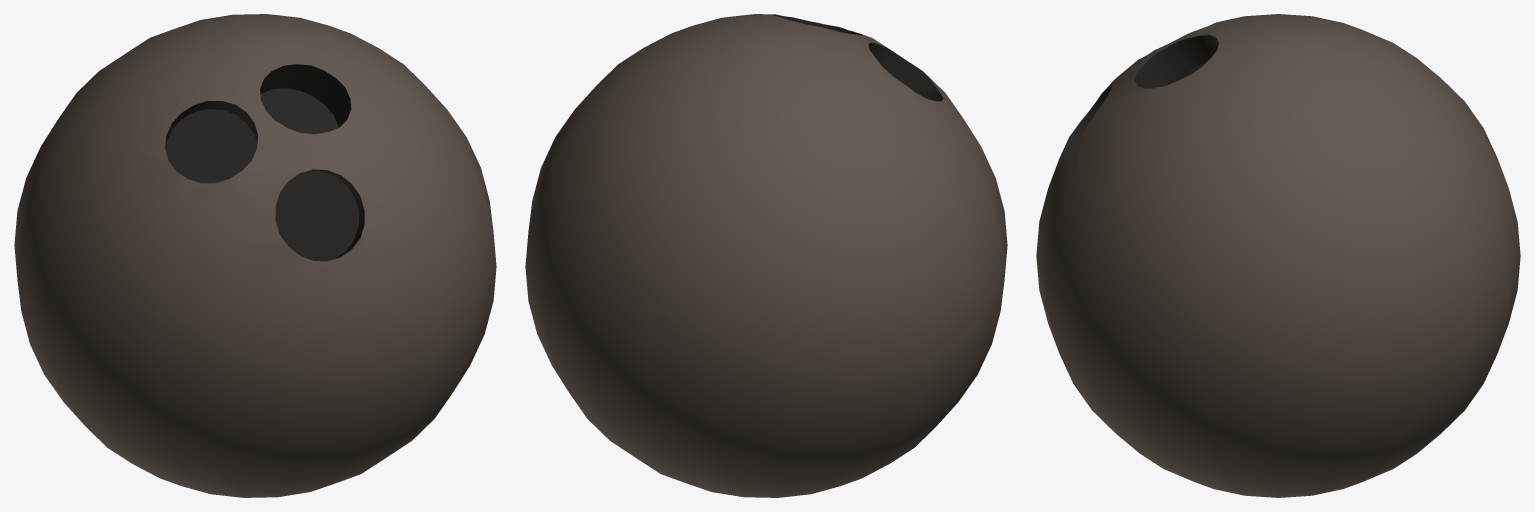
Rendered from BowlingBall.fbx.
3 views of the same model, side by side, from view 1: azimuth 30°, elevation 25°; view 2: azimuth 150°, elevation 25°; view 3: azimuth 270°, elevation 25° (orthographic).
Visible parts, largest first — view 1: BowlingBall; view 2: BowlingBall; view 3: BowlingBall.
Part boxes in pixels (<box>): BowlingBall: <box>14,14,496,497</box>; BowlingBall: <box>525,14,1007,497</box>; BowlingBall: <box>1036,14,1520,497</box>.
Size of the model in its own units: 0.0472 by 0.0472 by 0.0472.
Materials: 1 (1 with a texture image).
